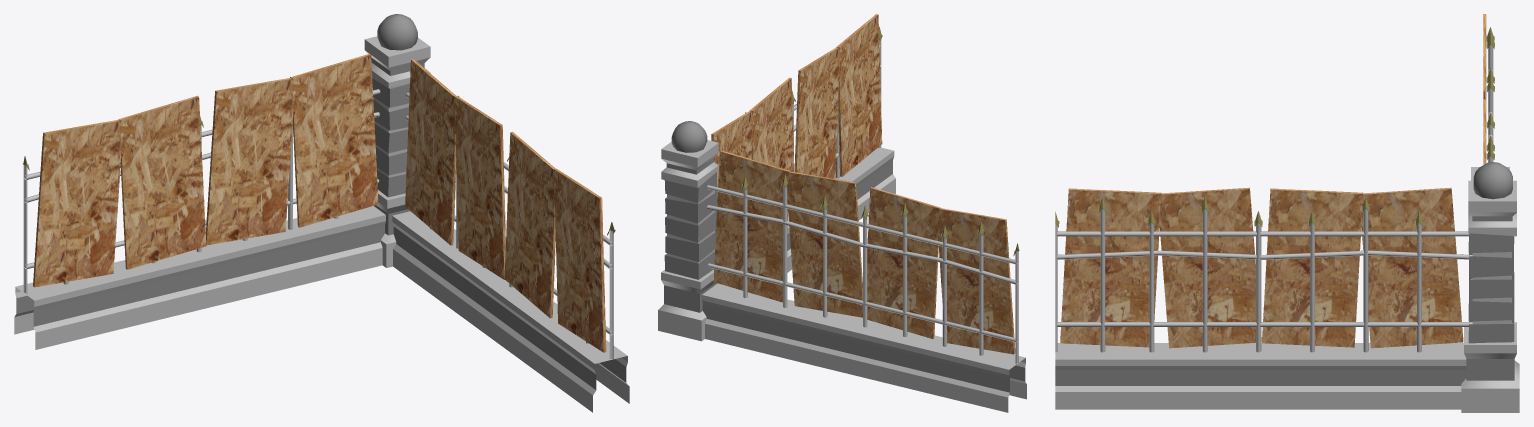
File: Fence_CornerStrong_Mod_01.fbx
The picture shows the model from 3 angles, left to right: view 1: azimuth 30°, elevation 25°; view 2: azimuth 150°, elevation 25°; view 3: azimuth 270°, elevation 25°; orthographic projection. The views are drawn at different scales.
Visible parts, largest first — view 1: FenceCornerStrong; view 2: FenceCornerStrong; view 3: FenceCornerStrong.
Part boxes in pixels (<box>): FenceCornerStrong: <box>14,14,629,412</box>; FenceCornerStrong: <box>658,14,1026,412</box>; FenceCornerStrong: <box>1055,14,1519,412</box>.
Bounding box in the file's own units: 5.01 × 2.82 × 5.
